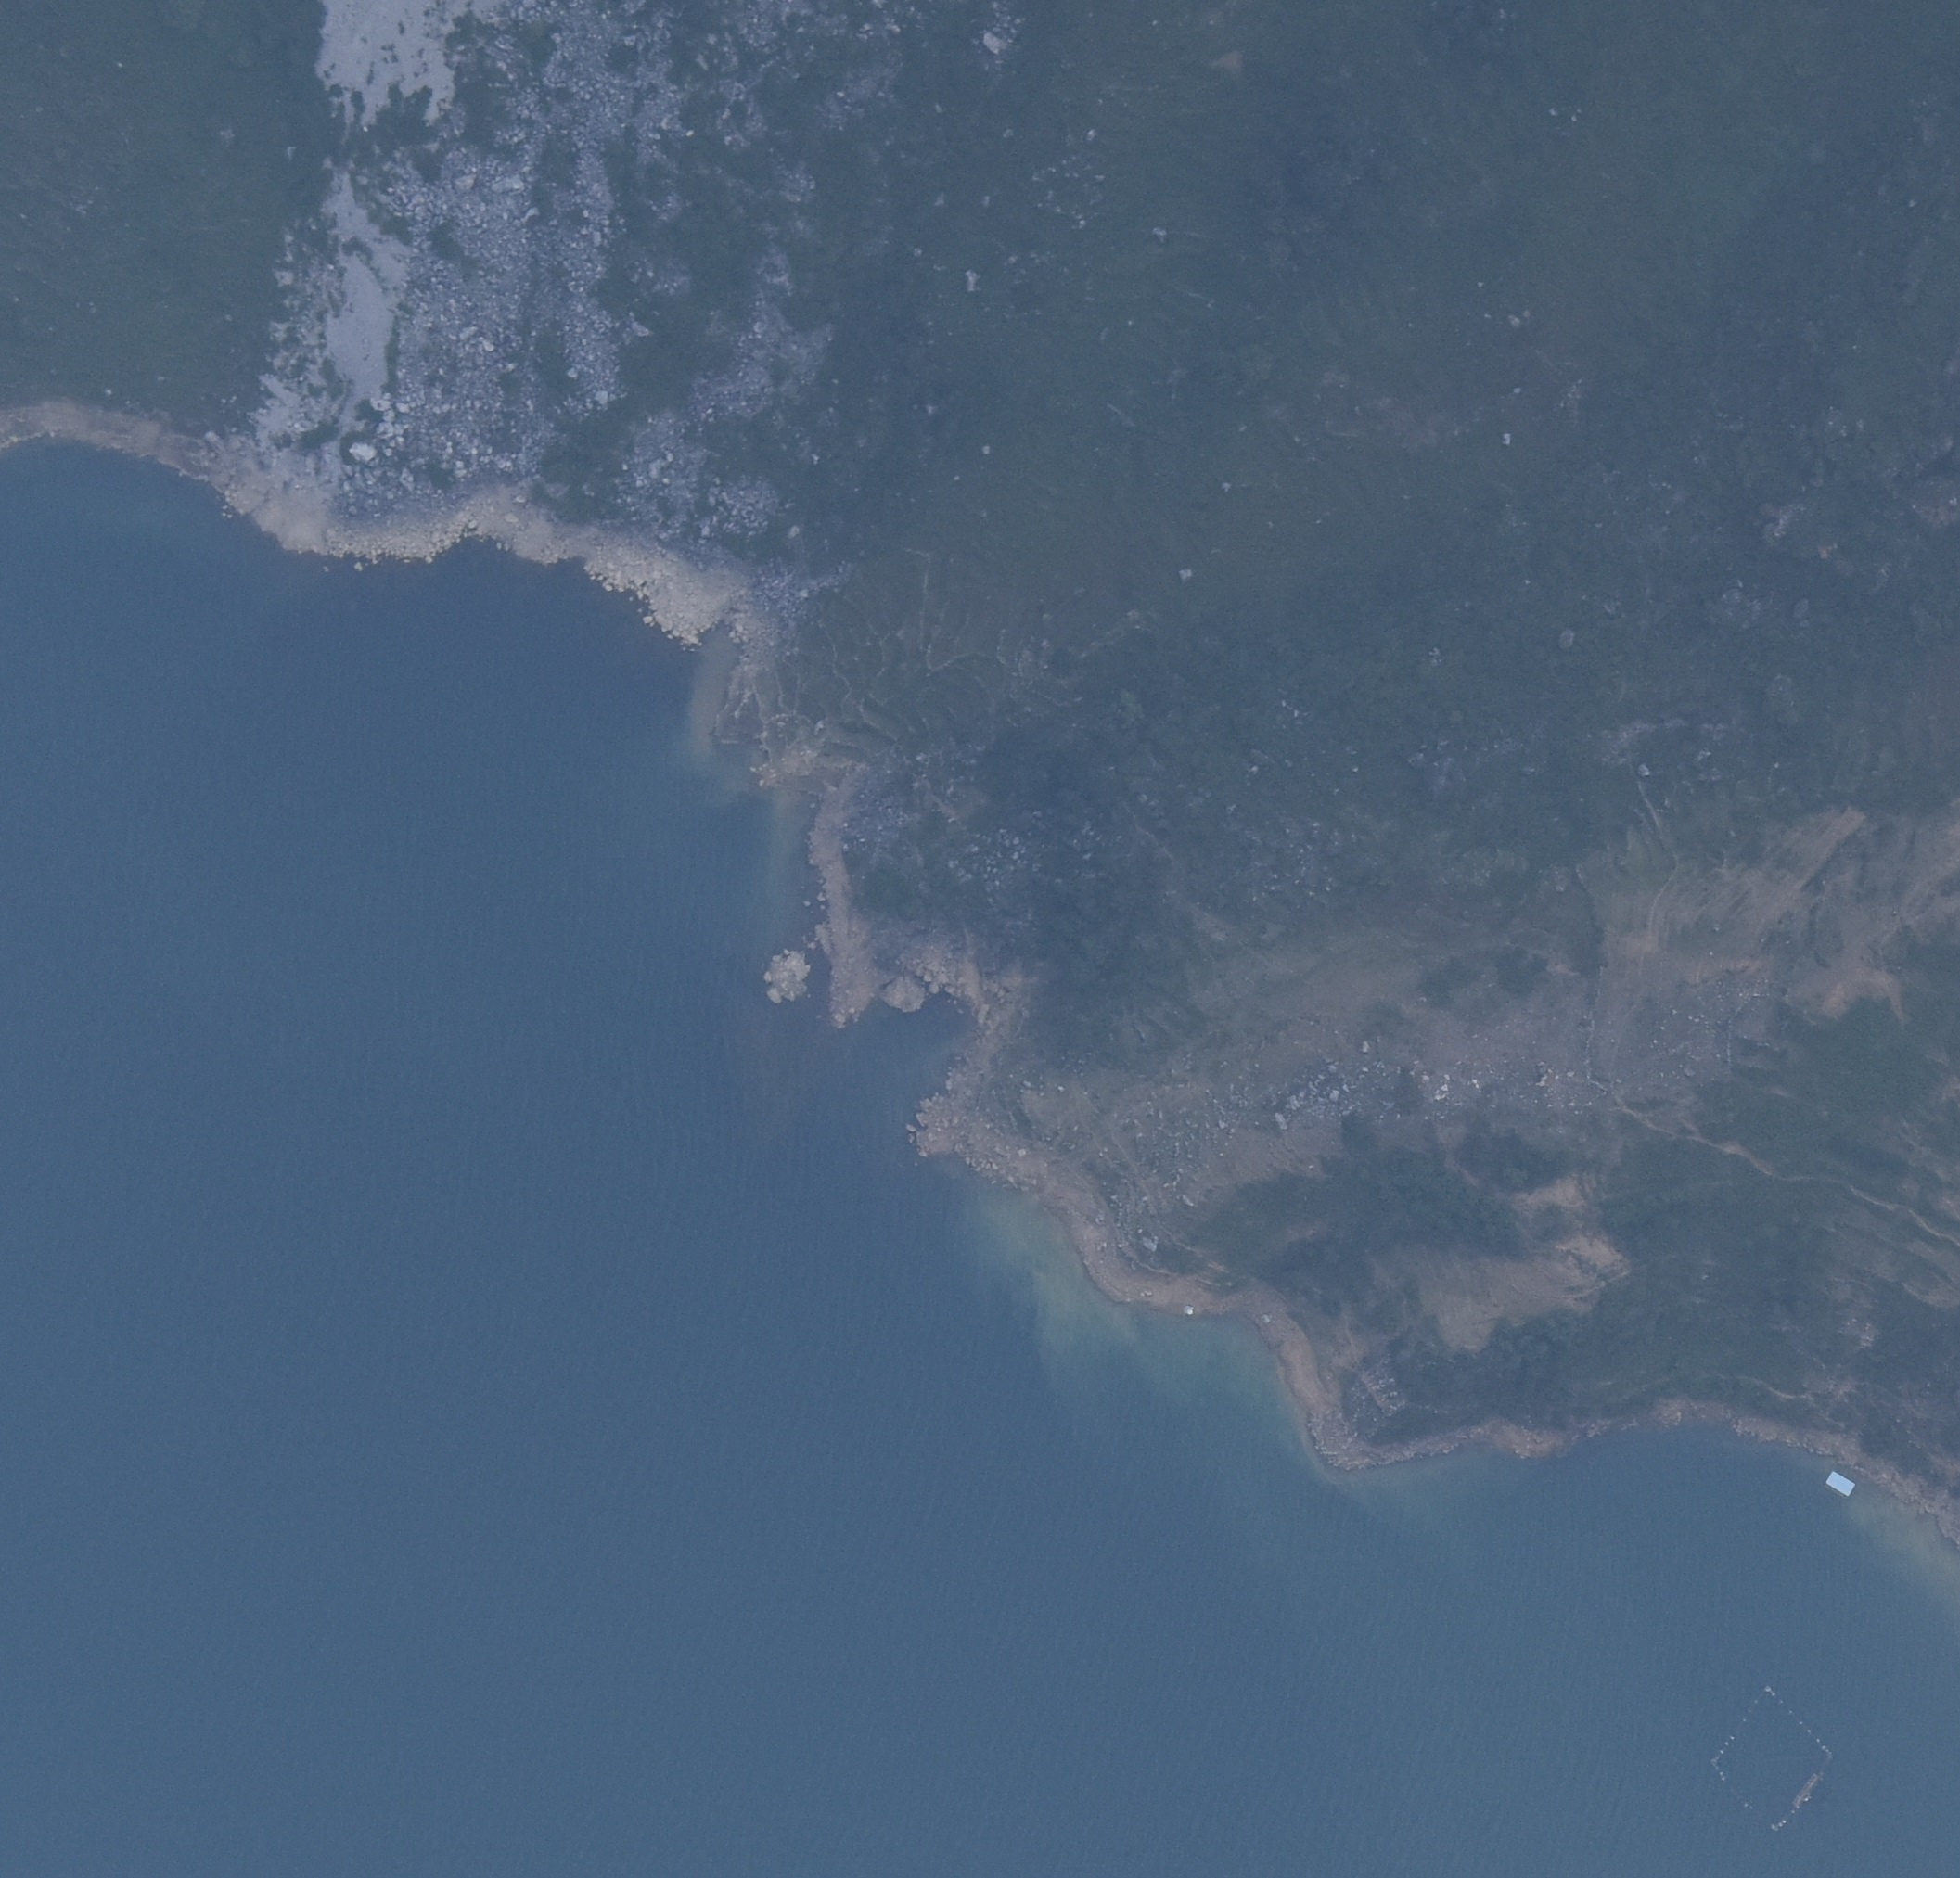cultivation-mesh-cage: (1707, 1685, 1834, 1831)
landslide: (229, 1, 890, 576), (986, 1028, 1407, 1243)
prefabricated-house: (1825, 1469, 1856, 1495)
